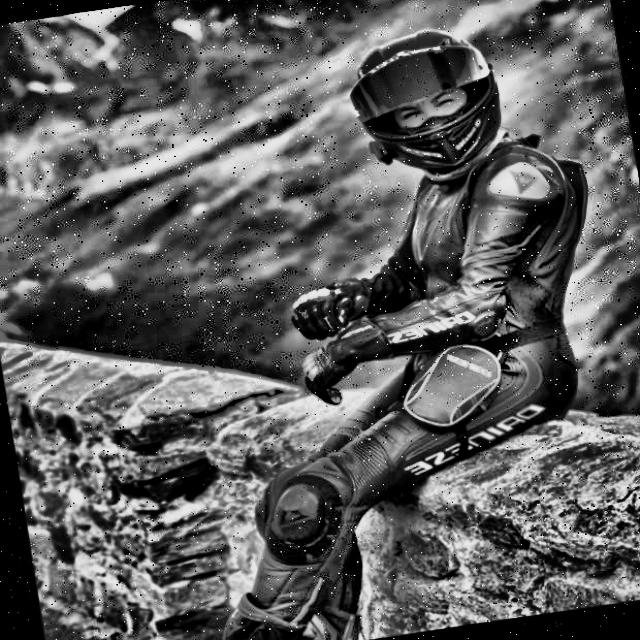Helmet: (332, 16, 515, 188)
